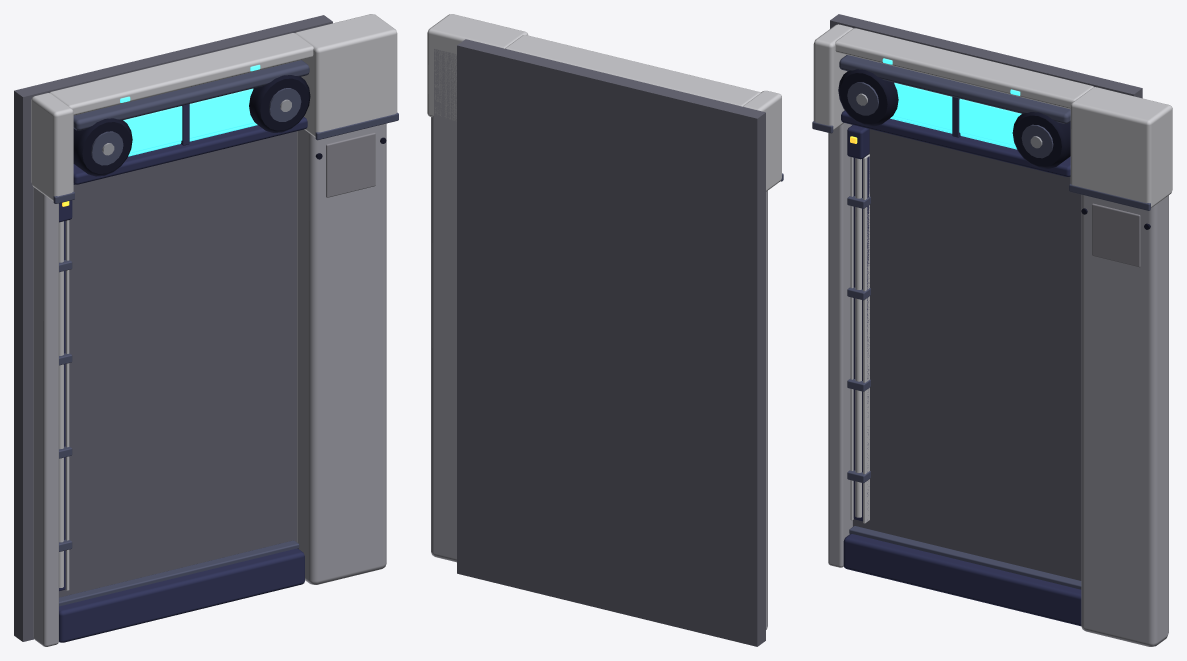
The model's file is int.wallbay.far.02.w1.glb.
3 renders of one model, left to right at view 1: azimuth 30°, elevation 25°; view 2: azimuth 150°, elevation 25°; view 3: azimuth 330°, elevation 25°, orthographic. The views are drawn at different scales.
Parts seen in each view (by area): view 1: int.wallbay.far.02.w1; view 2: int.wallbay.far.02.w1; view 3: int.wallbay.far.02.w1.
Part boxes in pixels (x1,y1,x2,y2): int.wallbay.far.02.w1: (14, 14, 398, 646); int.wallbay.far.02.w1: (427, 14, 783, 646); int.wallbay.far.02.w1: (812, 14, 1172, 646).
Size of the model in its own units: 1.13 by 1.68 by 0.2.
